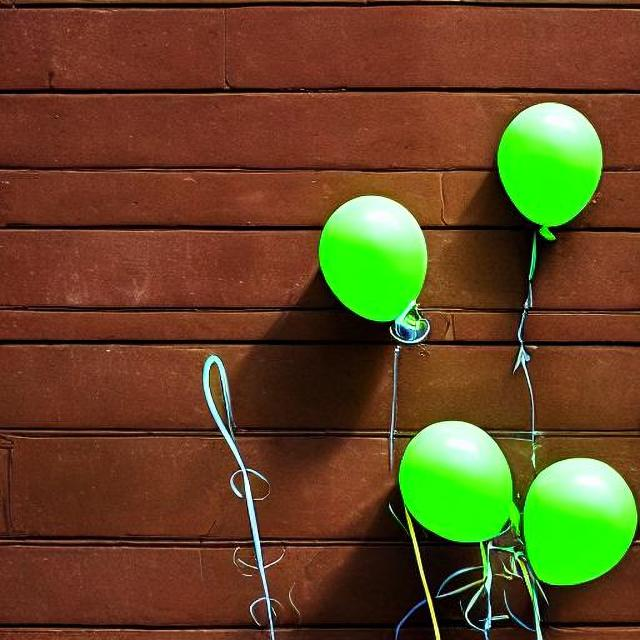balloon: (387, 351, 634, 620), (487, 104, 601, 275), (311, 194, 426, 332)
